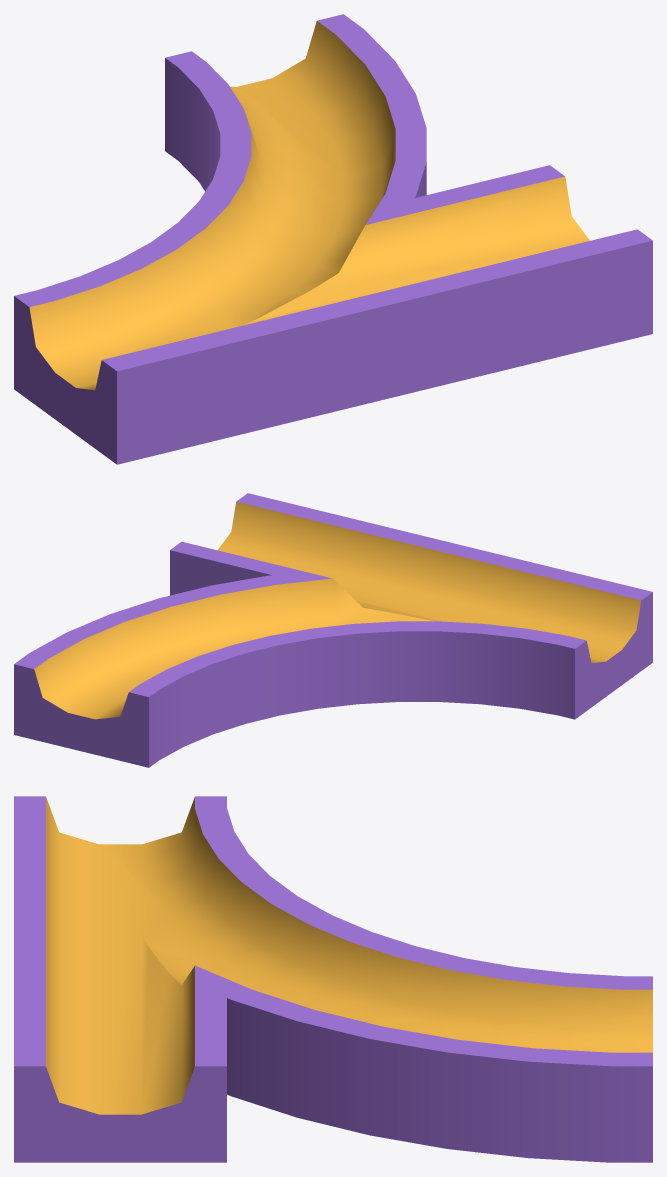
The model's file is split-large-left.glb.
The picture shows the model from 3 angles, top to bottom: view 1: azimuth 30°, elevation 25°; view 2: azimuth 150°, elevation 25°; view 3: azimuth 270°, elevation 25°; orthographic projection. The views are drawn at different scales.
Visible parts, largest first — view 1: split-large-left; view 2: split-large-left; view 3: split-large-left.
Boxes of the visible parts, x1,y1,x2,y2 form: split-large-left: (14, 14, 652, 464); split-large-left: (14, 493, 652, 767); split-large-left: (14, 796, 652, 1162).
Bounding box in the file's own units: 3 × 0.4999 × 3.
1 material, 1 textured.
